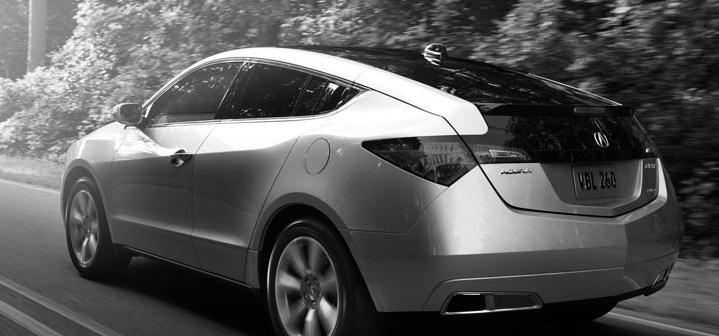car: (61, 46, 682, 336)
